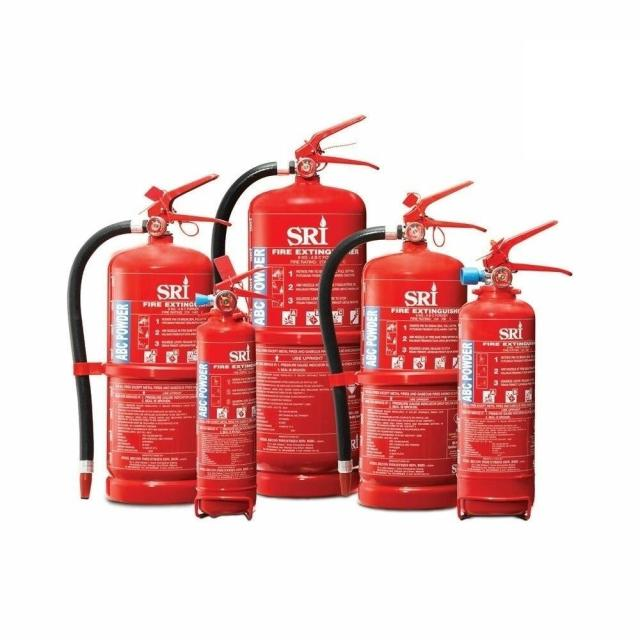fire_extinguisher: (204, 114, 382, 504), (314, 176, 490, 515), (62, 170, 234, 509), (449, 216, 575, 524), (188, 252, 280, 528)
